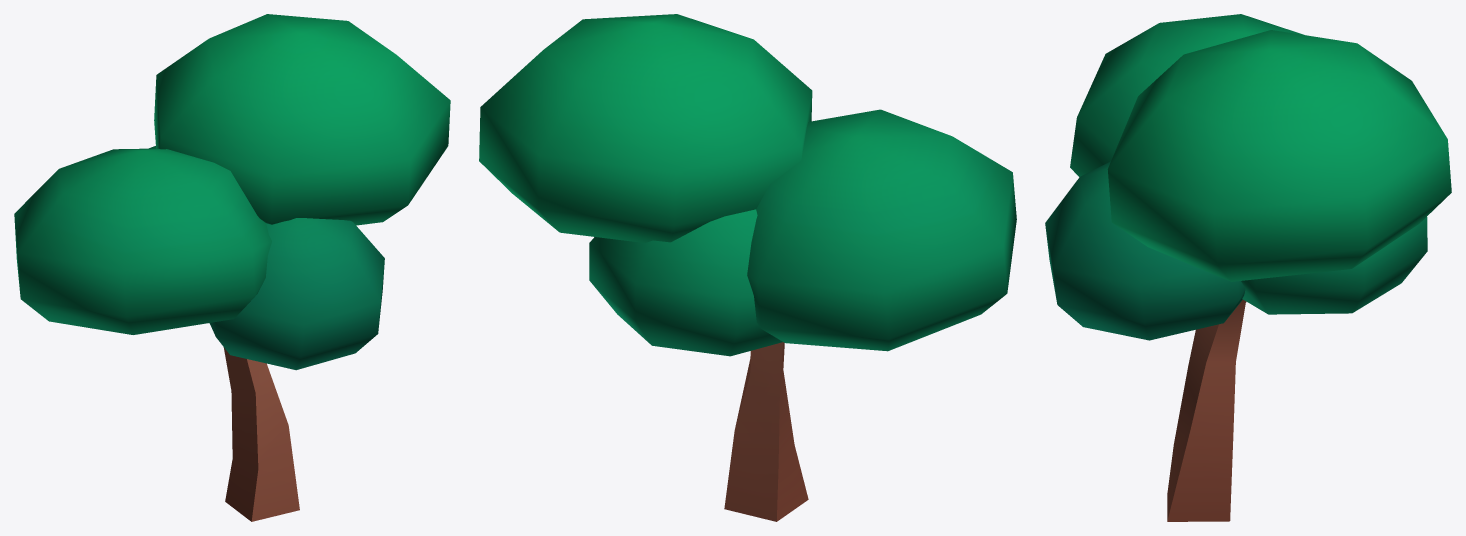
The model's file is tree_C.glb.
3 renders of one model, left to right at view 1: azimuth 30°, elevation 25°; view 2: azimuth 150°, elevation 25°; view 3: azimuth 270°, elevation 25°, orthographic. The views are drawn at different scales.
Parts seen in each view (by area): view 1: tree_C; view 2: tree_C; view 3: tree_C.
Boxes of the visible parts, x1,y1,x2,y2 form: tree_C: (14, 14, 450, 521); tree_C: (479, 14, 1016, 521); tree_C: (1045, 14, 1451, 521).
Size of the model in its own units: 1.11 by 1.09 by 0.8062.
1 material, 1 textured.
